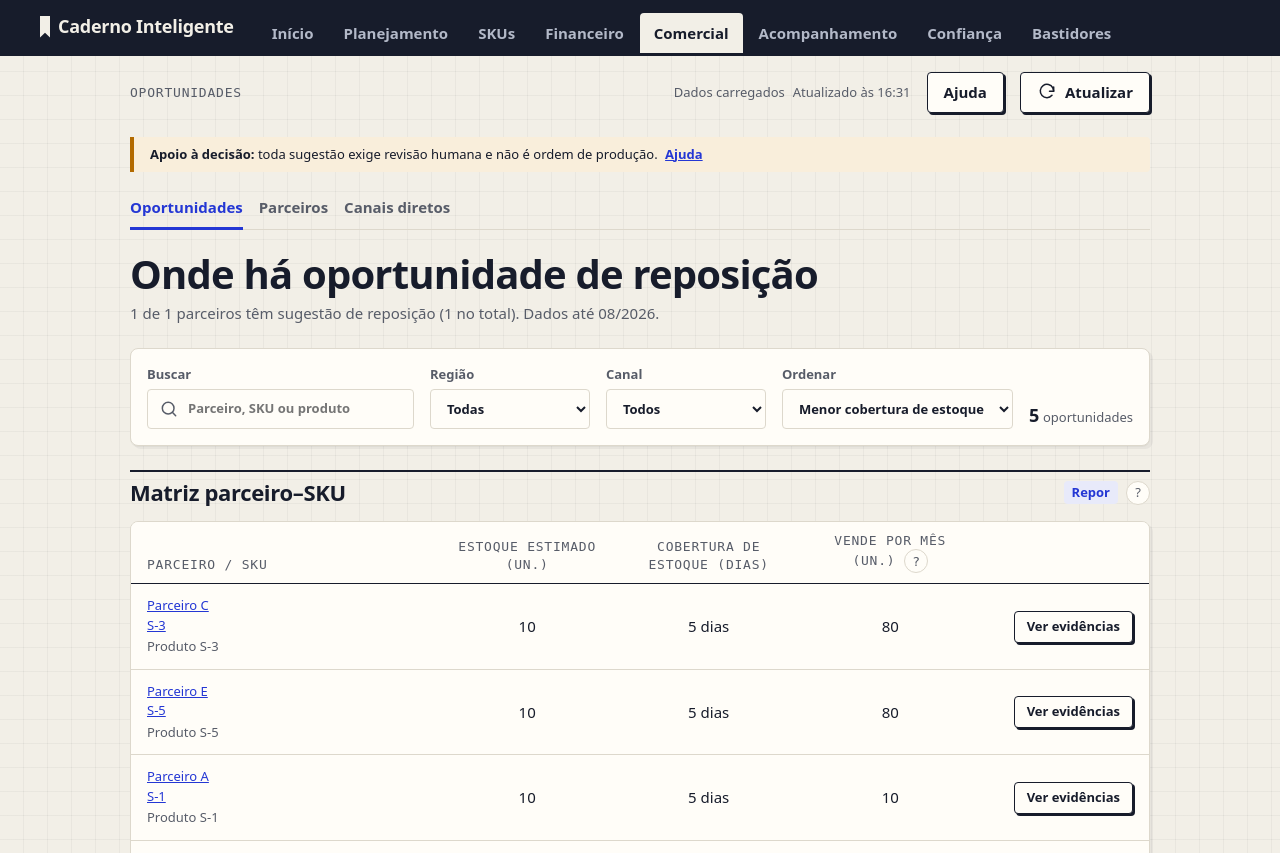
oportunidades: linhas › usa "cobertura de estoque" para dias e "cobertura de dados de sell-out" para a base
Expected: the column heading "Cobertura de estoque (dias)" is shown, [618,522,799,584]
Click the link "Parceiros" at (293, 207), box [259,197,328,217]
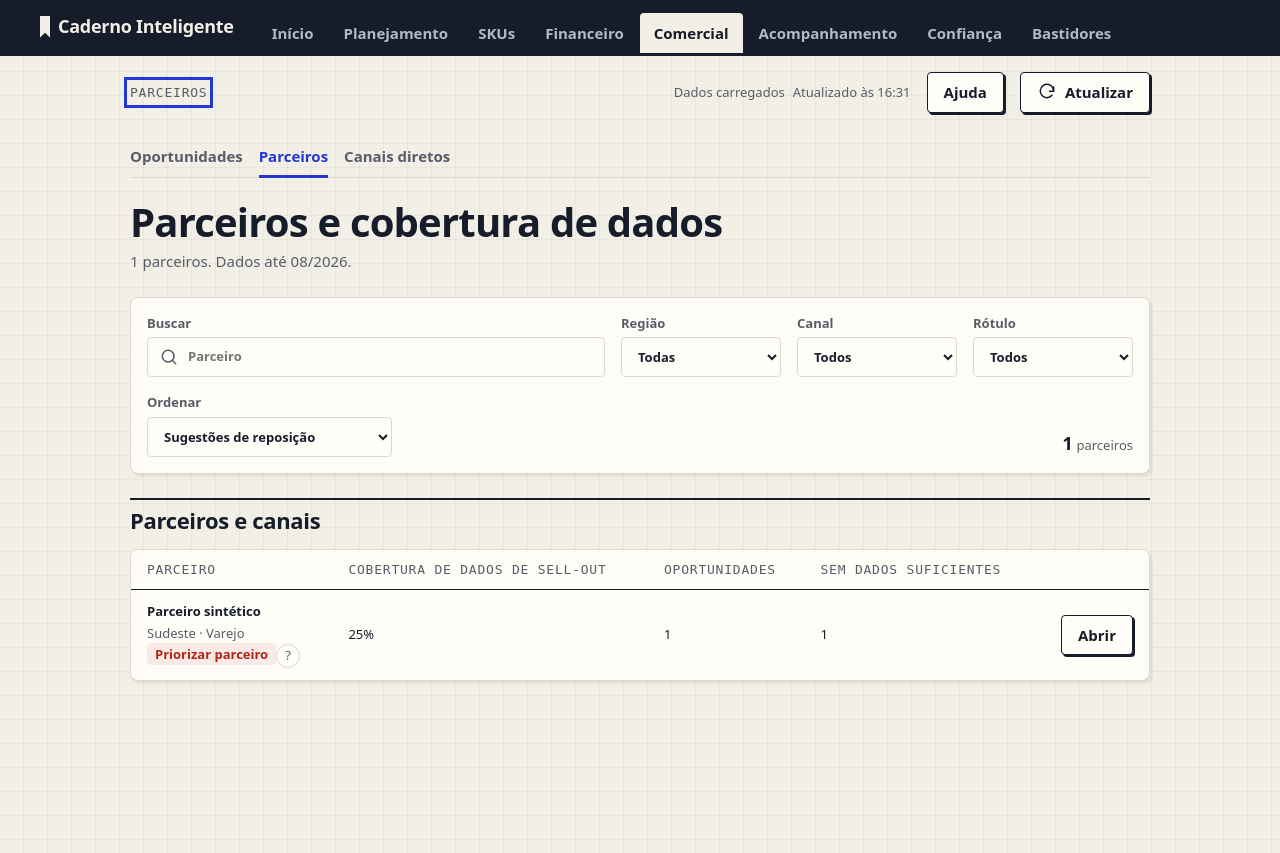
Now the column heading "Cobertura de dados de sell-out" is shown, box [332,550,648,590]
